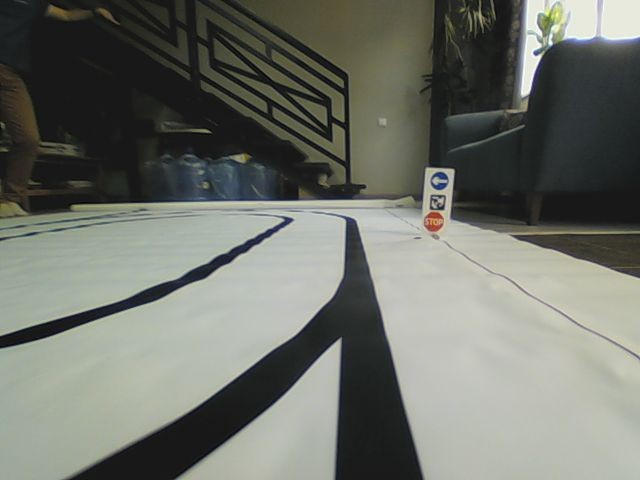Stop: (423, 211, 443, 230)
